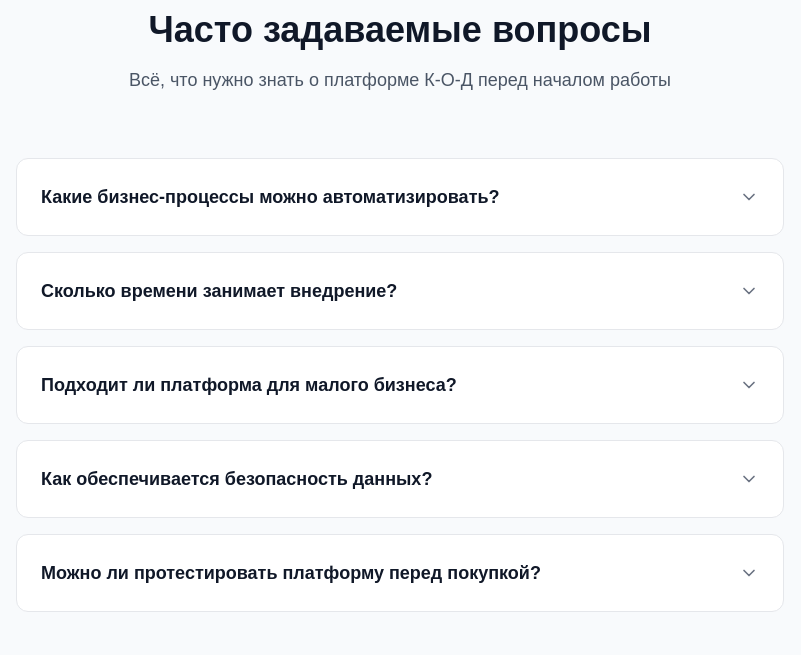
FAQ › shows answer when clicking a question
The width and height of the screenshot is (801, 655).
Click the button "Какие бизнес-процессы можно автоматизировать?" at (400,197), box [17,159,783,235]
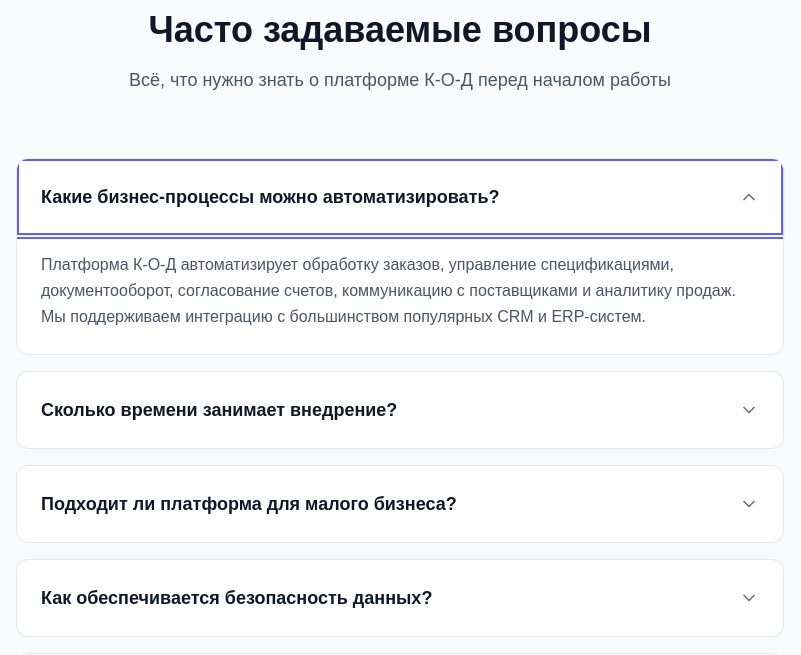
Now the text "обработку заказов" is shown, box [41,256,736,325]
